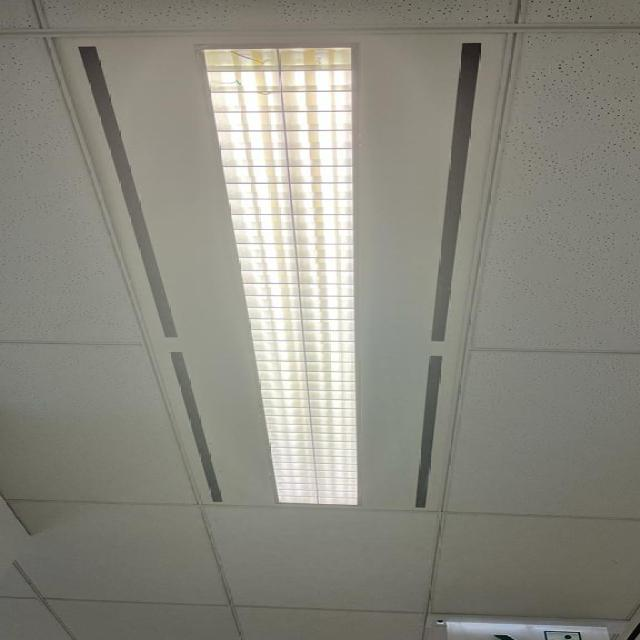Light-Opened: (41, 27, 516, 507)
